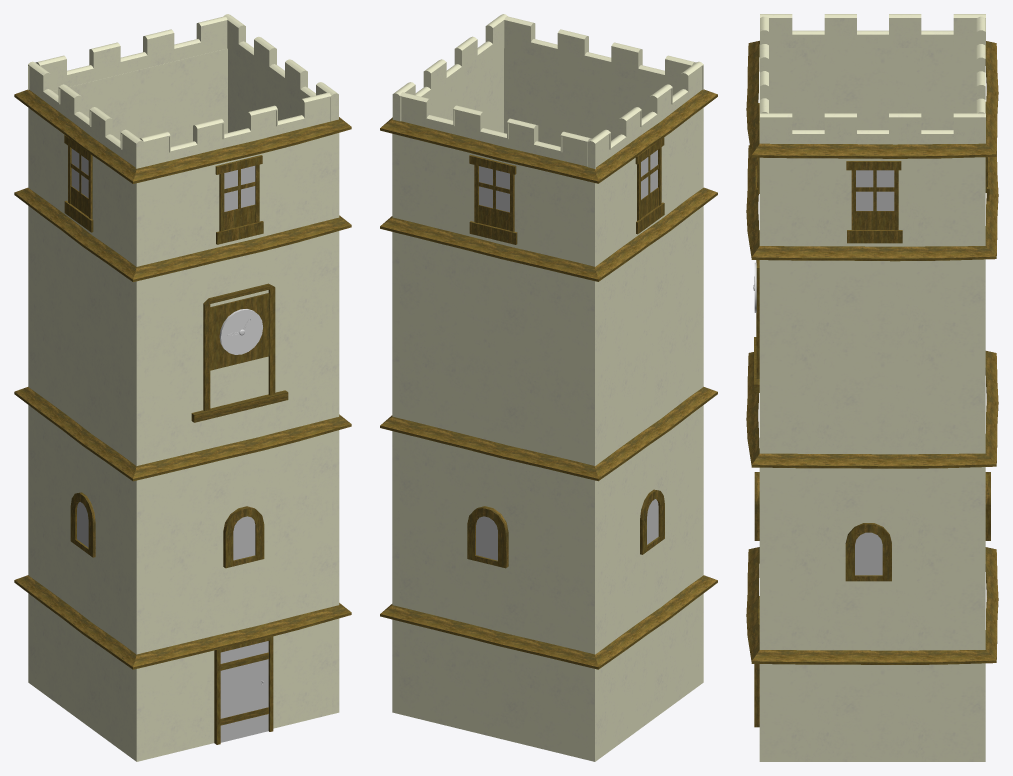
Rendered from Clock_Tower.fbx.
3 views of the same model, side by side, from view 1: azimuth 30°, elevation 25°; view 2: azimuth 150°, elevation 25°; view 3: azimuth 270°, elevation 25° (orthographic). The views are drawn at different scales.
Parts seen in each view (by area): view 1: Wall_Plane_Long40, Wall_Plane_Long48, Wall_Plane_Long44, Wall_Plane_Long52, Wall_Plane_Long56, Wall_Plane_Long37, Wall_Plane_Long49, Wall_Plane_Long36, Wall_Plane_Long41, Wall_Plane_Long53, Wall_Plane_Long58, Wall_Plane_Long45 (+30 smaller); view 2: Wall_Plane_Long50, Wall_Plane_Long38, Wall_Plane_Long54, Wall_Plane_Long42, Wall_Plane_Long46, Wall_Plane_Long58, Wall_Plane_Long49, Wall_Plane_Long36, Wall_Plane_Long41, Wall_Plane_Long53, Wall_Plane_Long56, Wall_Plane_Long45 (+23 smaller); view 3: Wall_Plane_Long51, Wall_Plane_Long39, Wall_Plane_Long55, Wall_Plane_Long43, Wall_Plane_Long47, Wall_Plane_Long59, Wall_Plane_Long57, Wall_Top1, Wall_Top3, Window_Rectangle33, Tower_Wood_Pillar_Long_Thick46, Tower_Wood_Pillar_Long_Thick54 (+15 smaller).
Part boxes in pixels (left/top/right/bottom): Wall_Plane_Long40: left=144, top=518, right=331, bottom=652; Wall_Plane_Long48: left=144, top=321, right=331, bottom=464; Wall_Plane_Long44: left=144, top=432, right=331, bottom=563; Wall_Plane_Long52: left=144, top=233, right=331, bottom=366; Wall_Plane_Long56: left=144, top=135, right=331, bottom=264; Wall_Plane_Long37: left=144, top=620, right=331, bottom=759; Wall_Plane_Long49: left=28, top=289, right=144, bottom=466; Wall_Plane_Long36: left=28, top=593, right=144, bottom=761; Wall_Plane_Long41: left=28, top=486, right=144, bottom=654; Wall_Plane_Long53: left=28, top=206, right=144, bottom=368; Wall_Plane_Long58: left=53, top=48, right=227, bottom=146; Wall_Plane_Long45: left=28, top=405, right=144, bottom=565; Wall_Plane_Long50: left=399, top=321, right=587, bottom=463; Wall_Plane_Long38: left=399, top=621, right=587, bottom=759; Wall_Plane_Long54: left=399, top=234, right=587, bottom=366; Wall_Plane_Long42: left=399, top=518, right=587, bottom=652; Wall_Plane_Long46: left=399, top=433, right=587, bottom=563; Wall_Plane_Long58: left=399, top=135, right=587, bottom=264; Wall_Plane_Long49: left=587, top=289, right=703, bottom=465; Wall_Plane_Long36: left=587, top=593, right=703, bottom=761; Wall_Plane_Long41: left=587, top=486, right=703, bottom=654; Wall_Plane_Long53: left=587, top=206, right=703, bottom=368; Wall_Plane_Long56: left=504, top=48, right=678, bottom=146; Wall_Plane_Long45: left=587, top=405, right=703, bottom=565; Wall_Plane_Long51: left=759, top=352, right=985, bottom=454; Wall_Plane_Long39: left=759, top=663, right=985, bottom=761; Wall_Plane_Long55: left=759, top=259, right=985, bottom=352; Wall_Plane_Long43: left=759, top=557, right=985, bottom=650; Wall_Plane_Long47: left=759, top=467, right=985, bottom=556; Wall_Plane_Long59: left=759, top=157, right=985, bottom=246; Wall_Plane_Long57: left=759, top=44, right=976, bottom=129; Wall_Top1: left=760, top=14, right=985, bottom=47; Wall_Top3: left=760, top=113, right=985, bottom=144; Window_Rectangle33: left=846, top=161, right=902, bottom=243; Tower_Wood_Pillar_Long_Thick46: left=751, top=453, right=996, bottom=468; Tower_Wood_Pillar_Long_Thick54: left=751, top=246, right=996, bottom=261.
Bounding box in the file's own units: 746 × 1971 × 697.
